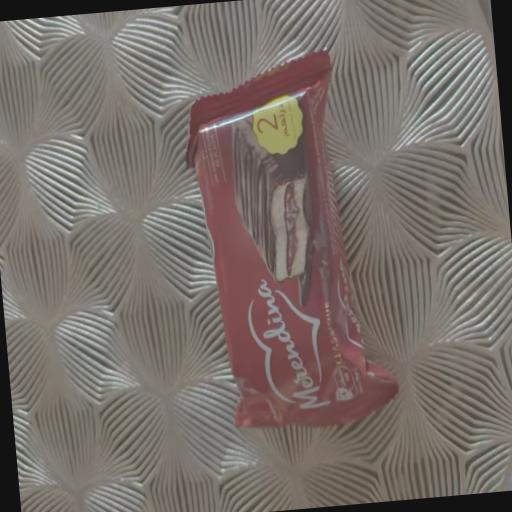merendina: (164, 38, 418, 460)
